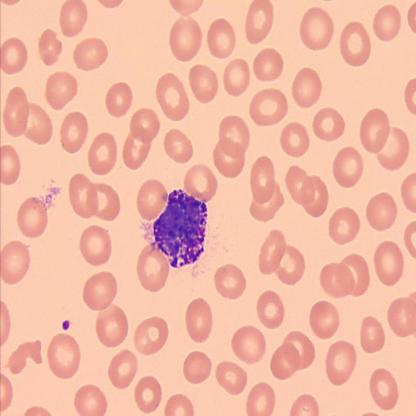Basophil: (150, 184, 210, 270)
